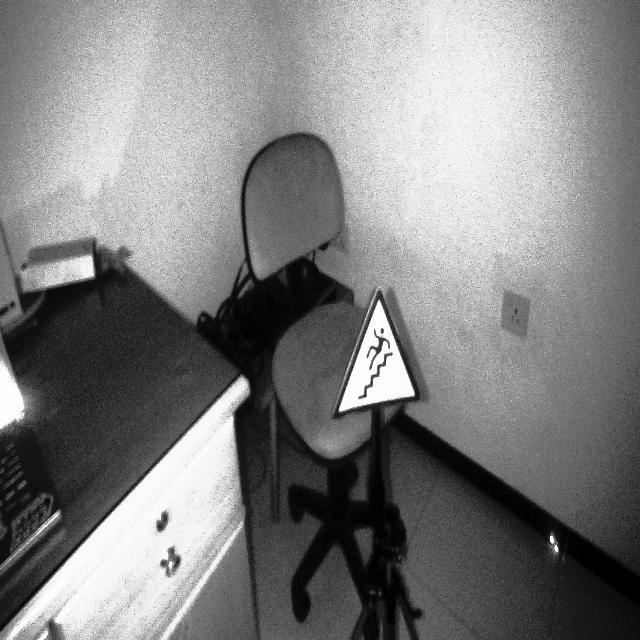Sign: (333, 284, 421, 420)
